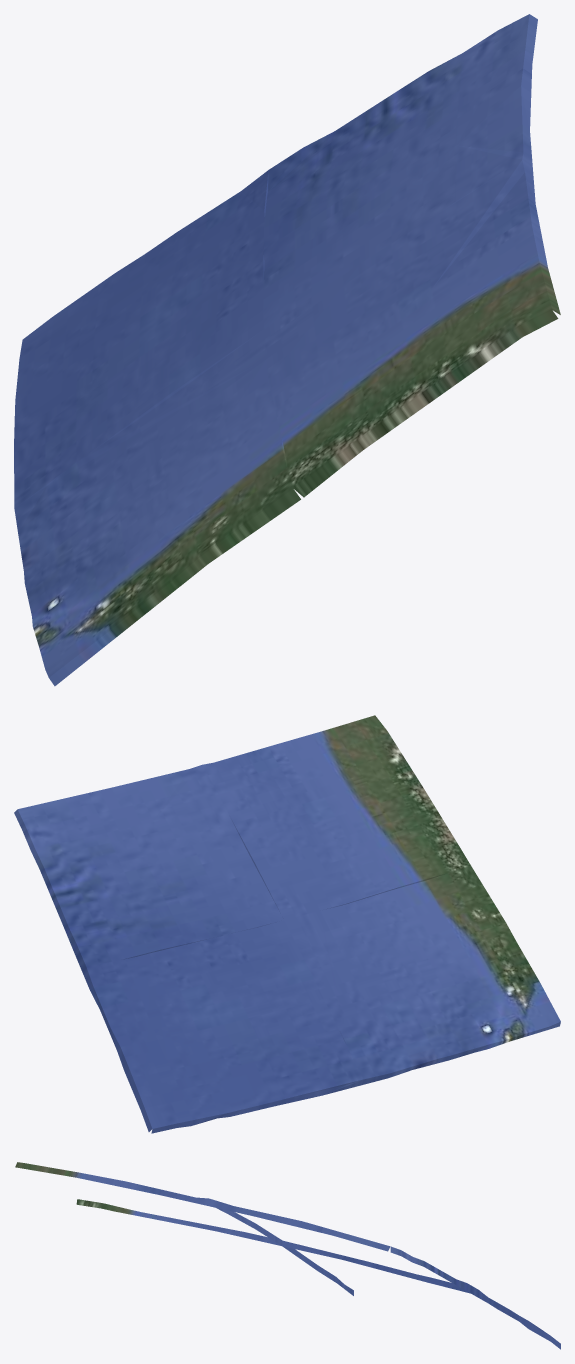
The picture shows the model from 3 angles, top to bottom: view 1: azimuth 30°, elevation 25°; view 2: azimuth 150°, elevation 25°; view 3: azimuth 270°, elevation 25°; orthographic projection. The views are drawn at different scales.
Bounding box in the file's own units: 802839 × 387332 × 901345.
1 material, 1 textured.
